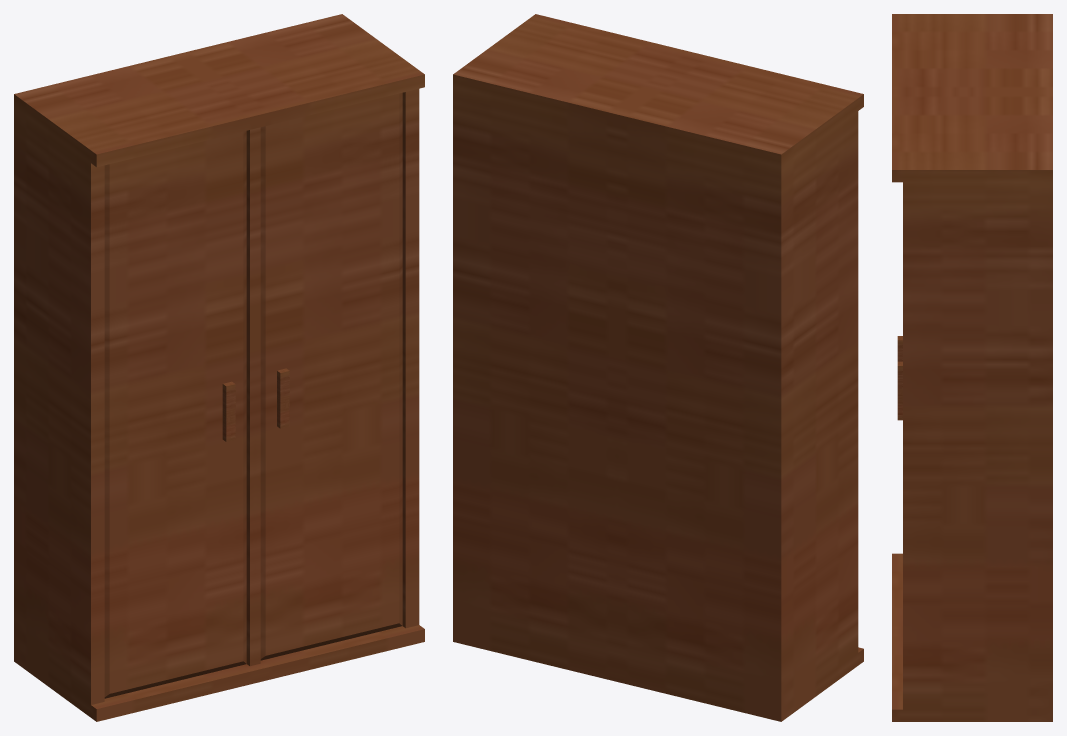
Rendered from Almari2.fbx.
The picture shows the model from 3 angles, left to right: view 1: azimuth 30°, elevation 25°; view 2: azimuth 150°, elevation 25°; view 3: azimuth 270°, elevation 25°; orthographic projection. The views are drawn at different scales.
Visible parts, largest first — view 1: Cube.013; view 2: Cube.013; view 3: Cube.013.
Boxes of the visible parts, x1=… form: Cube.013: x1=14, y1=14, x2=424, y2=721; Cube.013: x1=453, y1=14, x2=863, y2=721; Cube.013: x1=892, y1=14, x2=1052, y2=721.
Size of the model in its own units: 121 by 200 by 52.78.
1 material, 1 textured.
